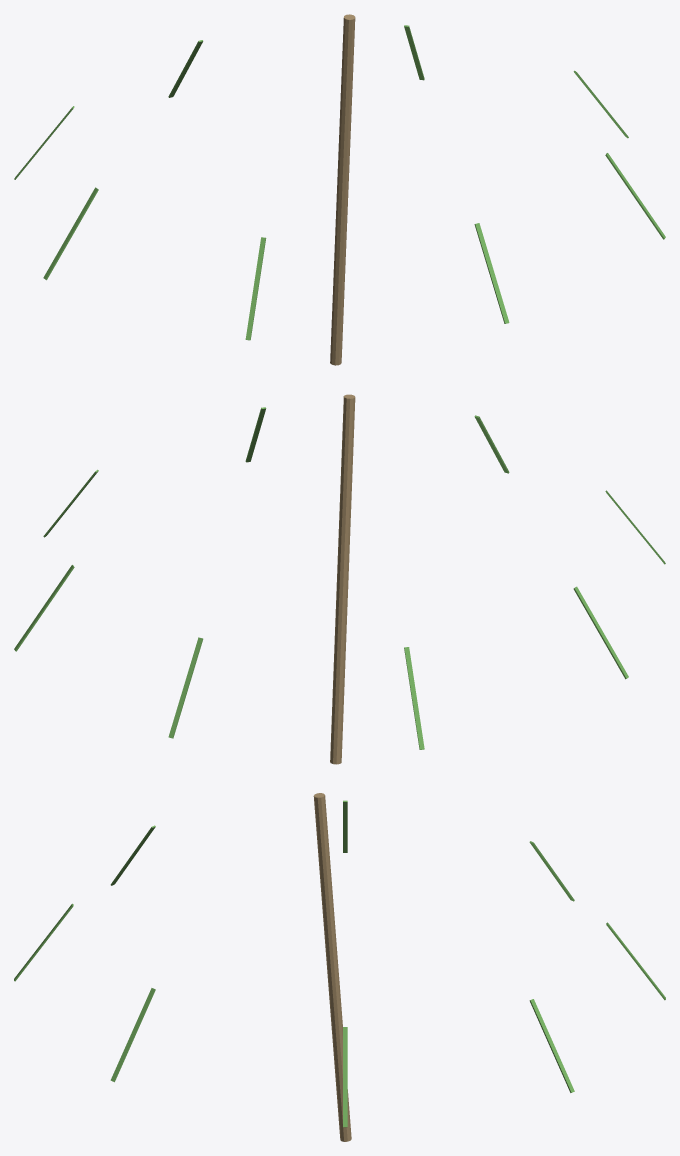
File: Veg_CoconutPalm_C.fbx
3 views of the same model, one above another, from view 1: azimuth 30°, elevation 25°; view 2: azimuth 150°, elevation 25°; view 3: azimuth 270°, elevation 25° (orthographic). The views are drawn at different scales.
Visible parts, largest first — view 1: Veg_CoconutPalm_C; view 2: Veg_CoconutPalm_C; view 3: Veg_CoconutPalm_C.
Boxes of the visible parts, left/top/right/bottom form: Veg_CoconutPalm_C: left=14, top=14, right=665, bottom=365; Veg_CoconutPalm_C: left=14, top=394, right=665, bottom=764; Veg_CoconutPalm_C: left=14, top=793, right=665, bottom=1141.
Size of the model in its own units: 20.55 by 12 by 20.55.
